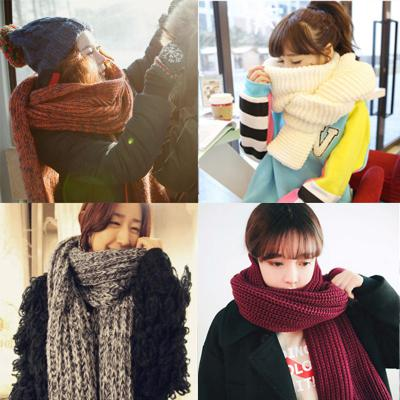NONE: (88, 207, 145, 265), (67, 40, 112, 89)
OK: (274, 43, 324, 93)
WRONG: (256, 244, 316, 300)
